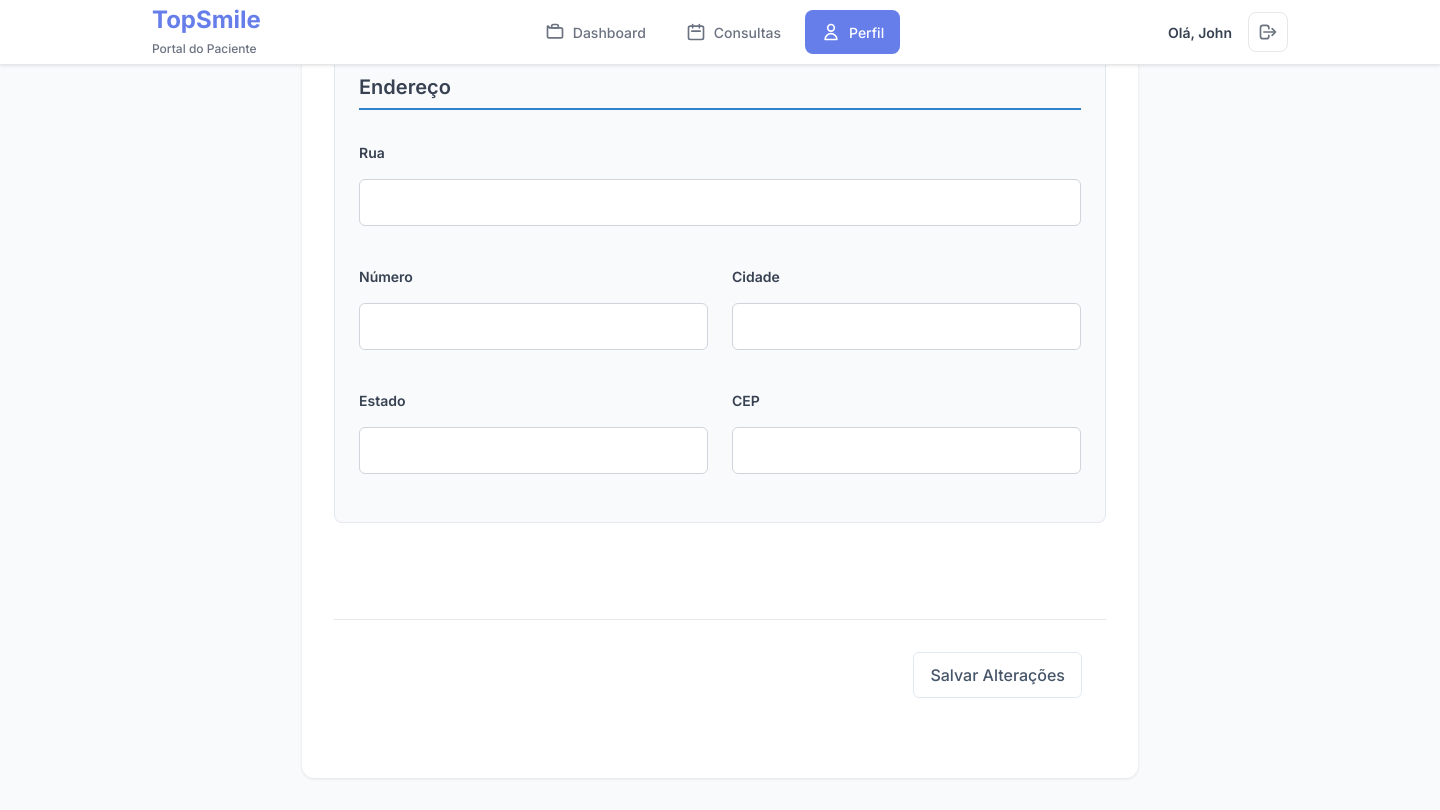
Scenario: PatientProfile › shows an error message if update fails
The image size is (1440, 810).
(page scrolled)
Click the button "Salvar Alterações" at (998, 674), box [913,652,1082,698]
(page scrolled)
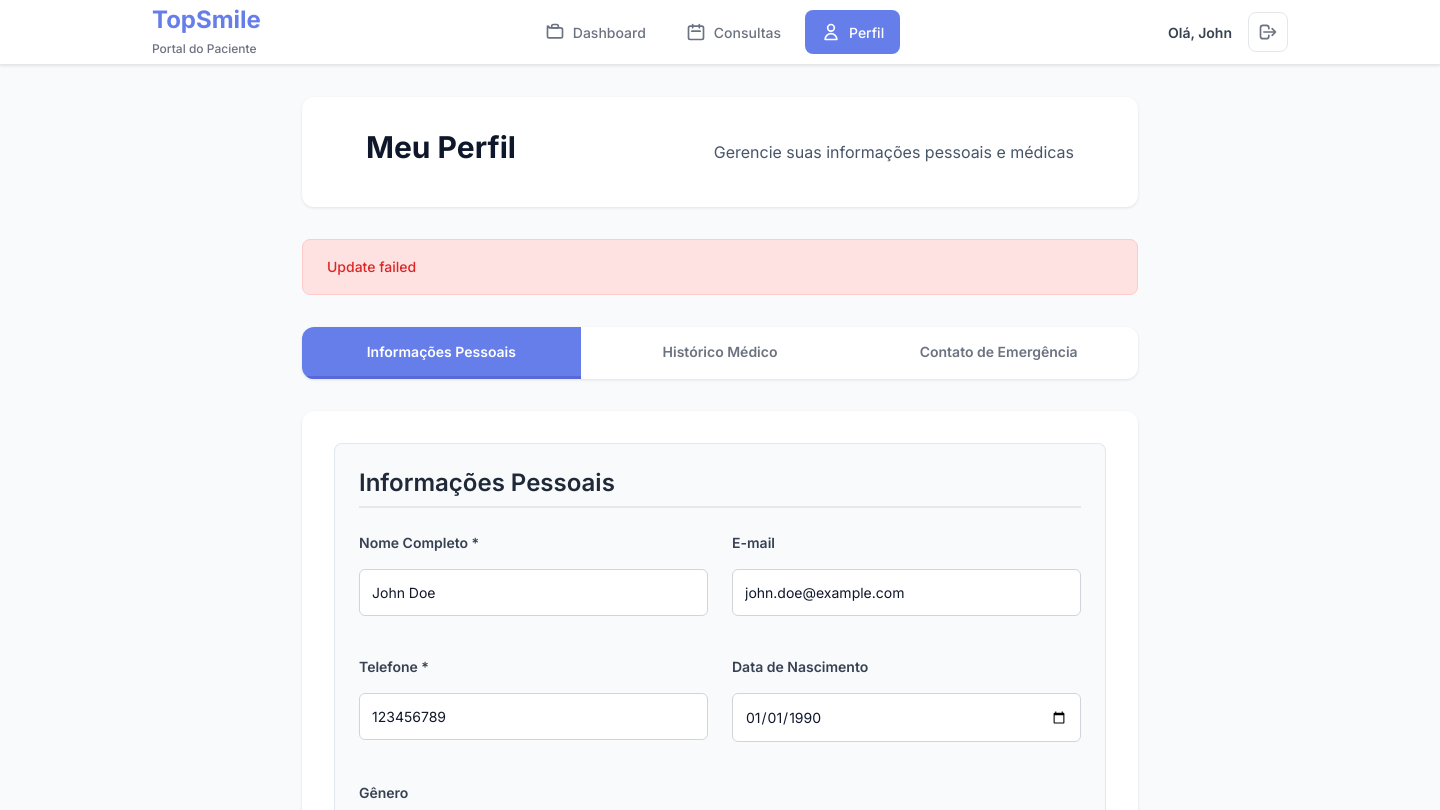
Result: the text "Update failed" is shown at [327,258,416,274]
